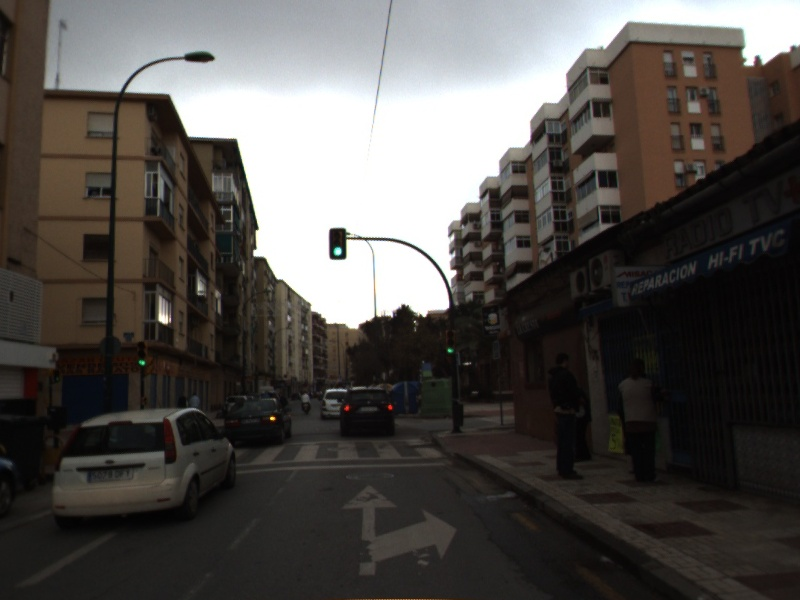STRAIGHT_RIGHT: (339, 481, 460, 579)
